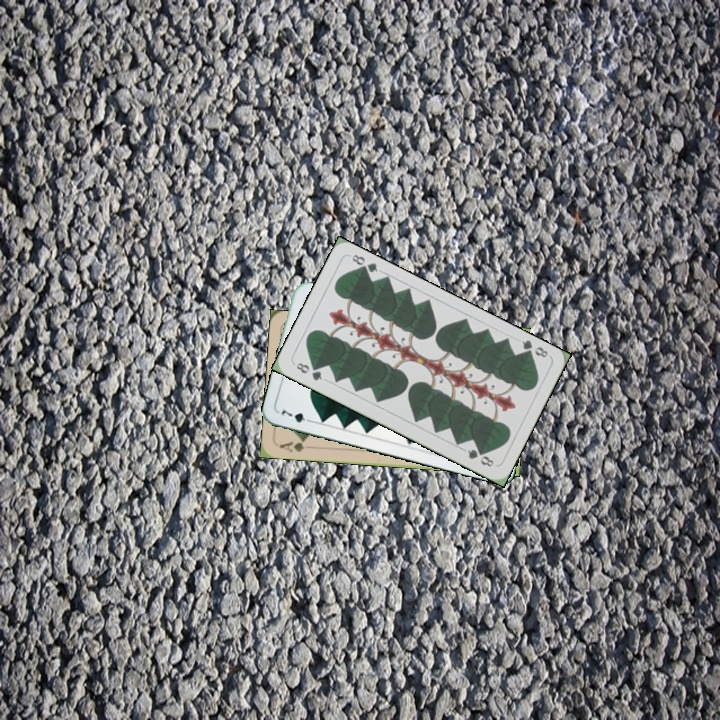G7: (277, 404, 316, 425)
G8: (292, 358, 325, 383), (518, 336, 551, 361)
GA: (276, 436, 307, 455)
